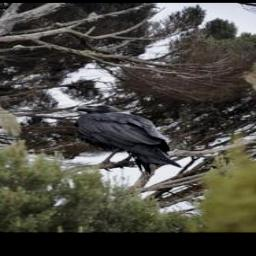Crow: (73, 103, 181, 177)
